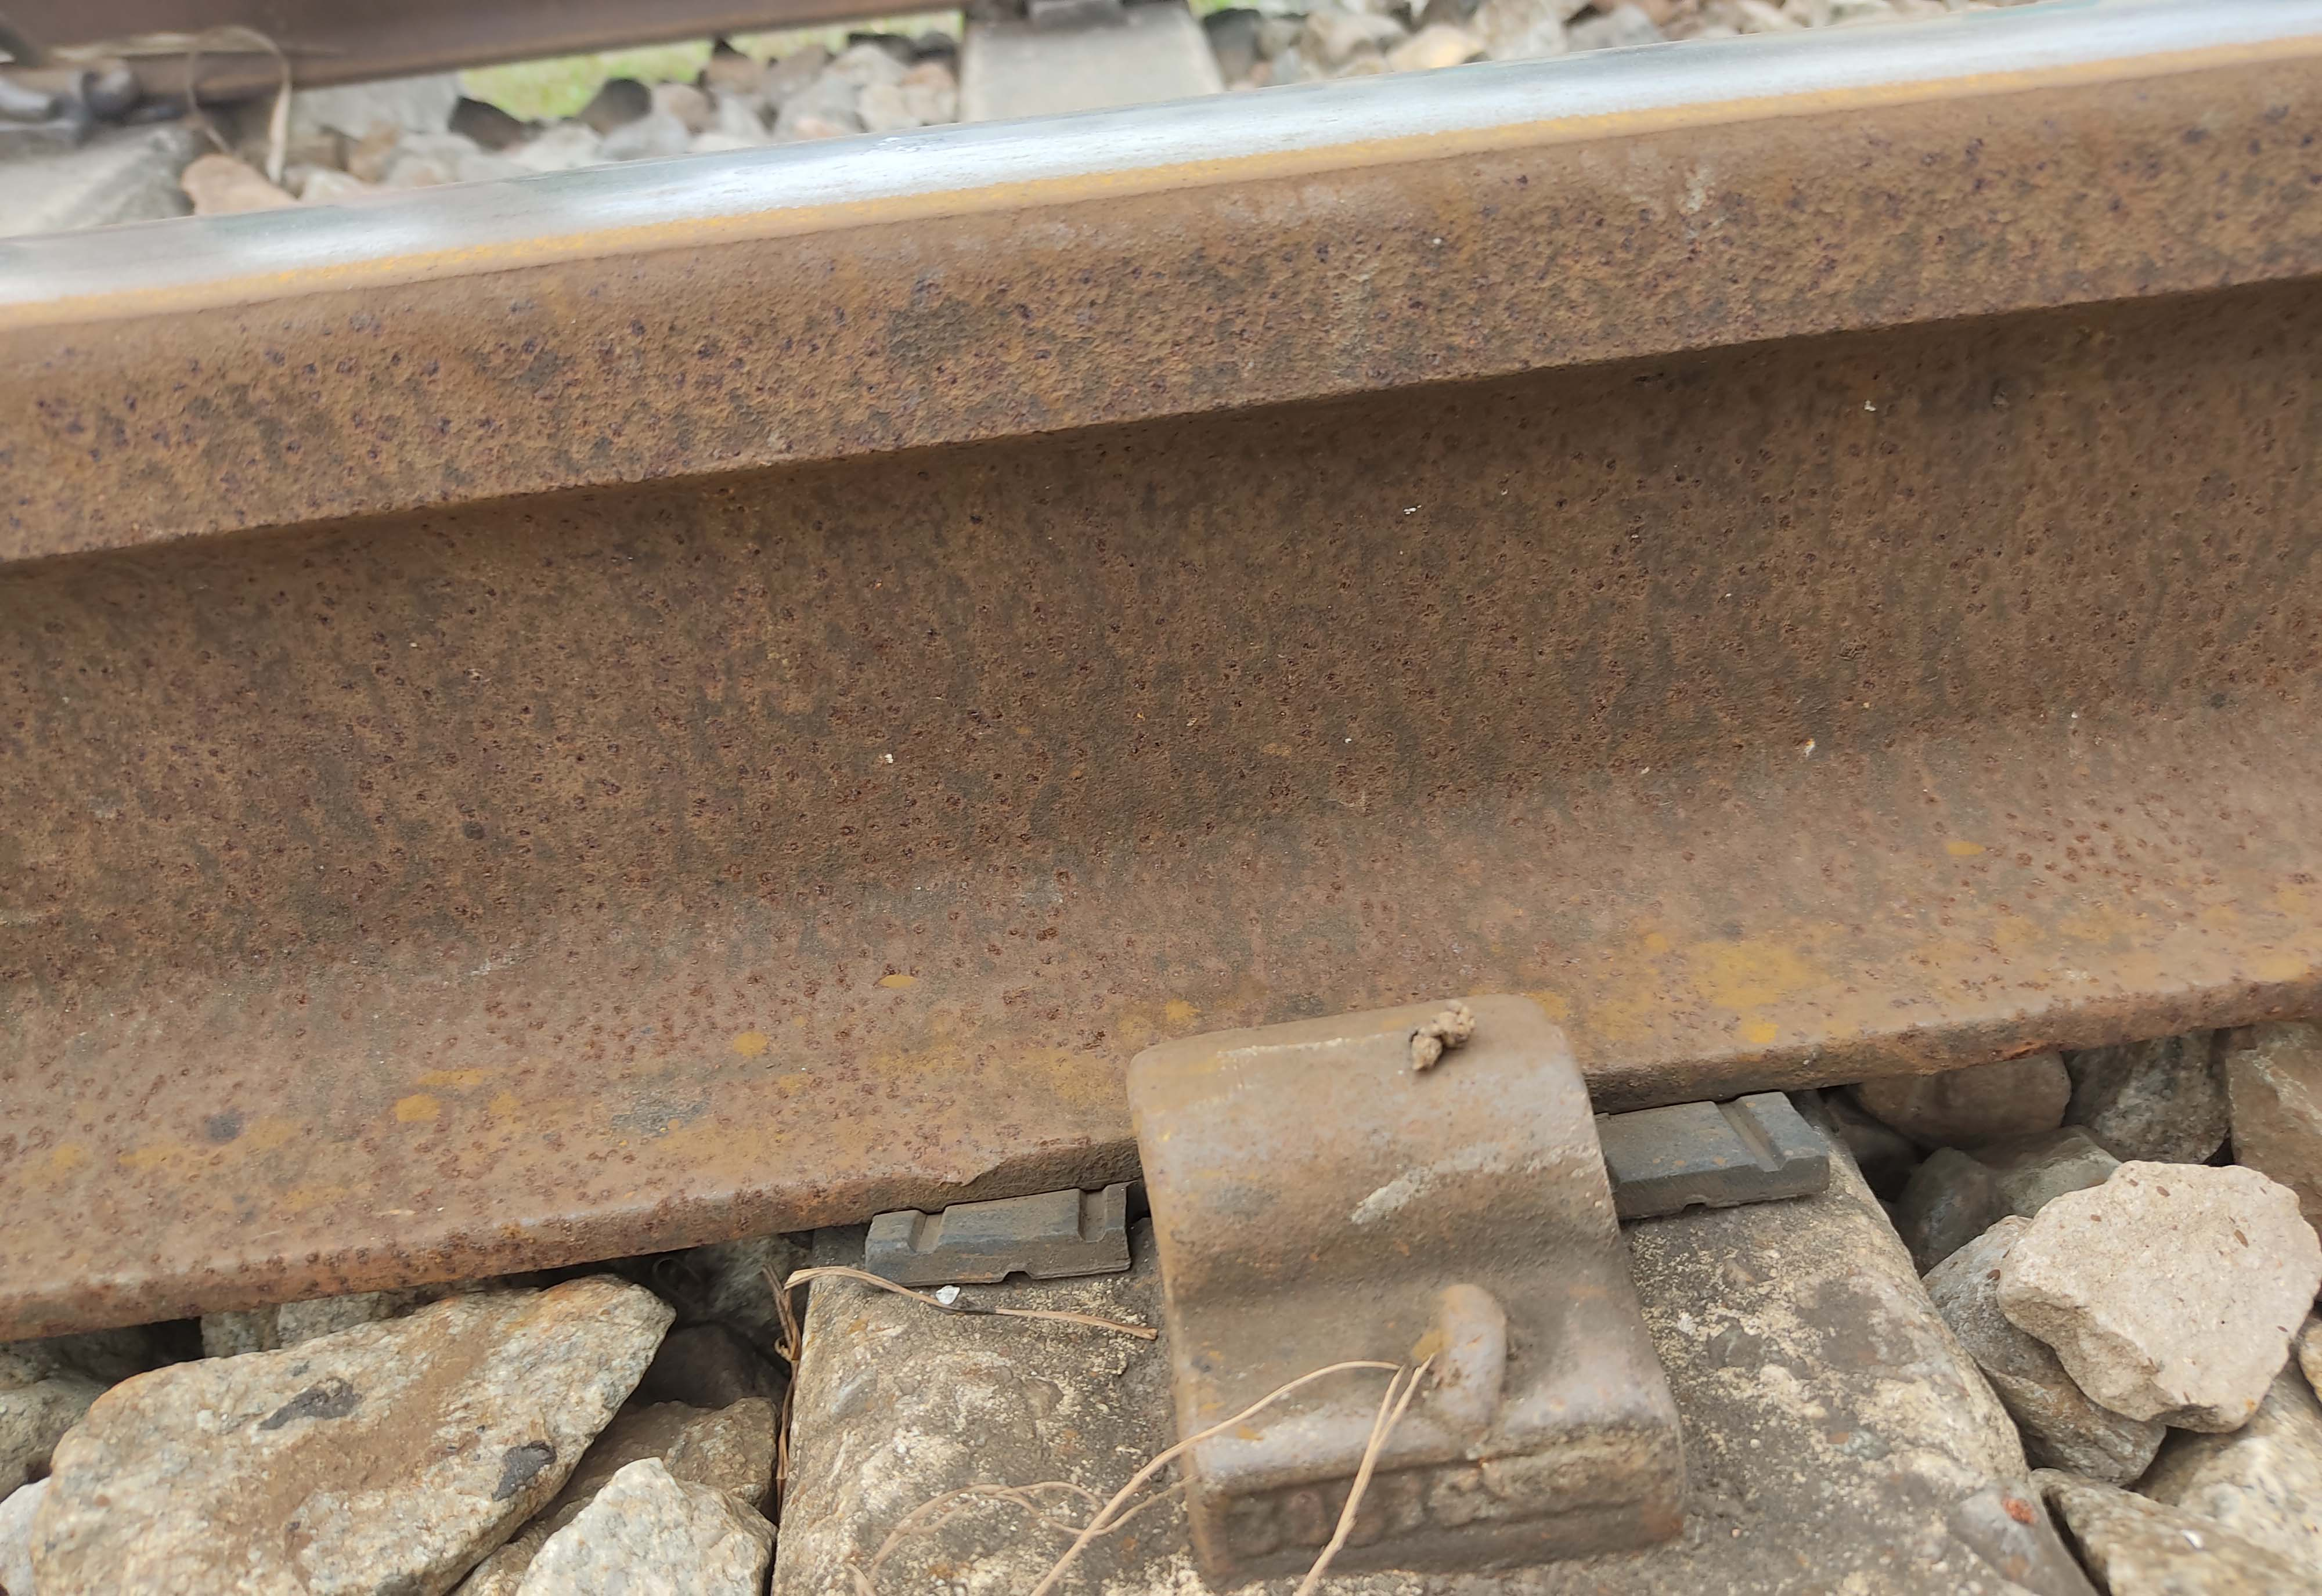error1: (1060, 926, 1782, 1577)
